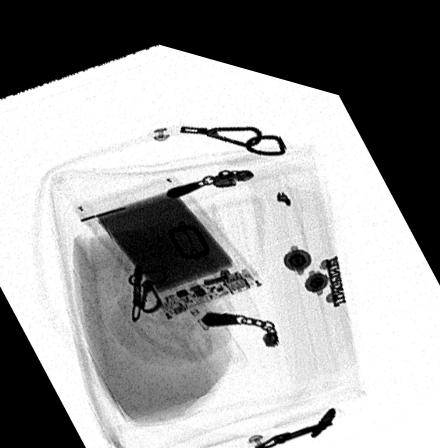Powerbank: (71, 163, 266, 311)
